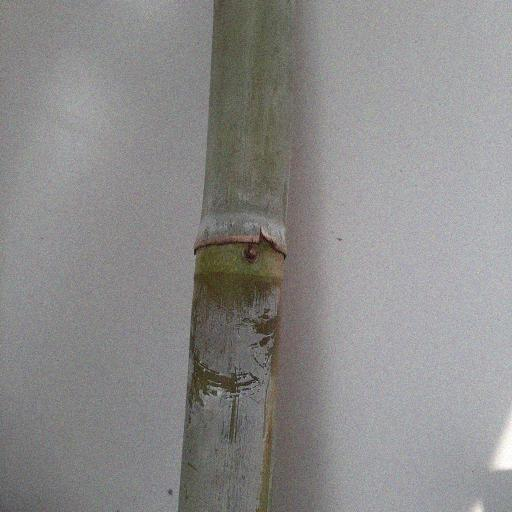Bud: (240, 242, 260, 266)
